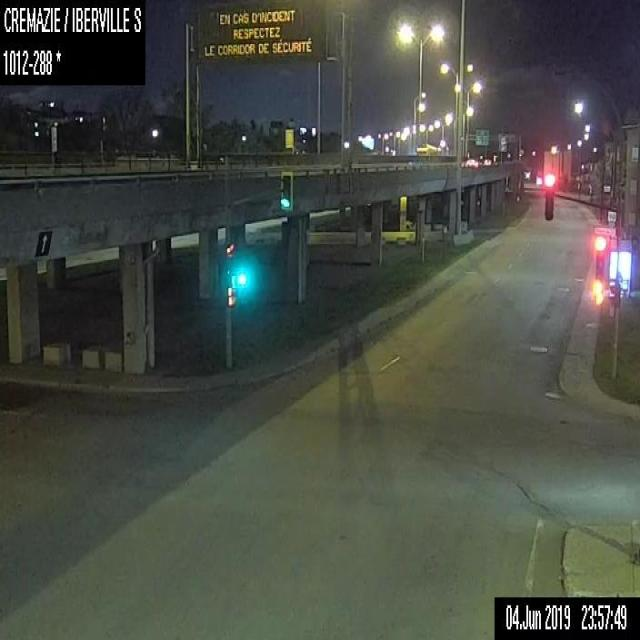vehicle: (416, 142, 440, 160), (464, 157, 478, 167), (482, 156, 490, 164)
